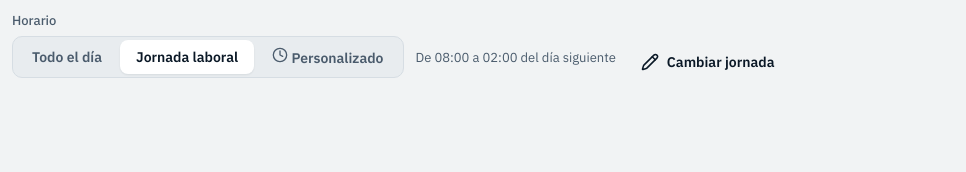
HourFilterBar › 7. hora incompleta muestra el error de completar
The width and height of the screenshot is (966, 172).
Click the button "Cambiar jornada": [708, 62] box [628, 46, 788, 78]
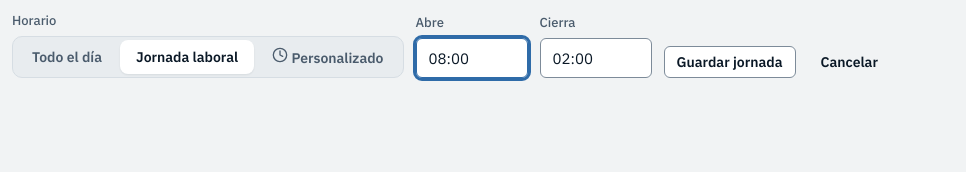
Replace the text in the field labelled "Cierra" with "08": [596, 58] box [540, 38, 652, 78]
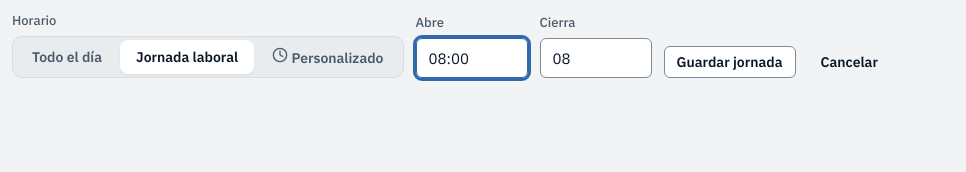
Click the button "Guardar jornada": [730, 62] box [664, 46, 796, 78]
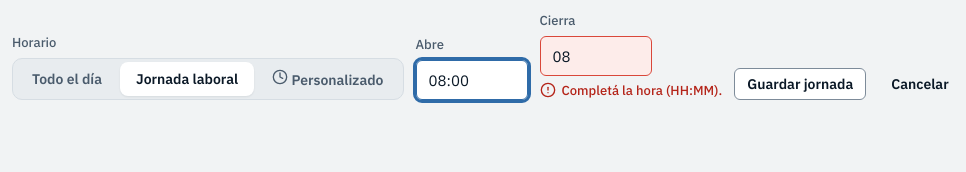
Now the text "Completá la hora (HH:MM)." is shown, box [540, 82, 722, 100]
